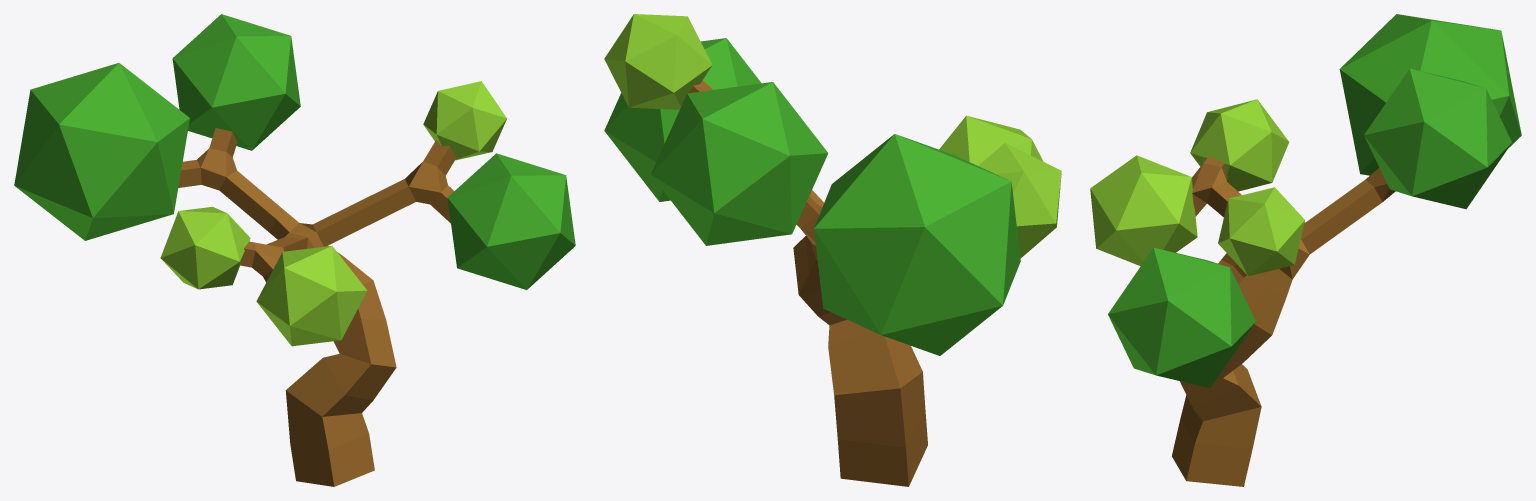
Rendered from Tree1.glb.
3 views of the same model, side by side, from view 1: azimuth 30°, elevation 25°; view 2: azimuth 150°, elevation 25°; view 3: azimuth 270°, elevation 25° (orthographic). The views are drawn at different scales.
Visible parts, largest first — view 1: Cube, Icosphere.005, Icosphere.002, Icosphere.004, Icosphere.001, Icosphere, Icosphere.003; view 2: Icosphere.005, Icosphere.004, Cube, Icosphere.003, Icosphere.002, Icosphere, Icosphere.001; view 3: Cube, Icosphere.004, Icosphere.002, Icosphere.005, Icosphere.001, Icosphere, Icosphere.003.
Boxes of the visible parts, bbox=[...] form: Cube: bbox=[178, 128, 456, 486]; Icosphere.005: bbox=[14, 63, 189, 240]; Icosphere.002: bbox=[447, 153, 575, 289]; Icosphere.004: bbox=[172, 14, 300, 150]; Icosphere.001: bbox=[256, 246, 367, 346]; Icosphere: bbox=[160, 206, 250, 289]; Icosphere.003: bbox=[423, 81, 506, 160]; Icosphere.005: bbox=[814, 134, 1020, 355]; Icosphere.004: bbox=[651, 82, 828, 245]; Cube: bbox=[682, 80, 927, 486]; Icosphere.003: bbox=[604, 14, 712, 109]; Icosphere.002: bbox=[604, 38, 761, 201]; Icosphere: bbox=[978, 143, 1061, 258]; Icosphere.001: bbox=[939, 115, 1043, 165]; Cube: bbox=[1172, 156, 1395, 486]; Icosphere.004: bbox=[1364, 68, 1511, 209]; Icosphere.002: bbox=[1108, 247, 1255, 388]; Icosphere.005: bbox=[1339, 14, 1521, 175]; Icosphere.001: bbox=[1090, 155, 1197, 266]; Icosphere: bbox=[1190, 99, 1289, 191]; Icosphere.003: bbox=[1218, 187, 1304, 276].
Size of the model in its own units: 5.86 by 4.99 by 4.8.
